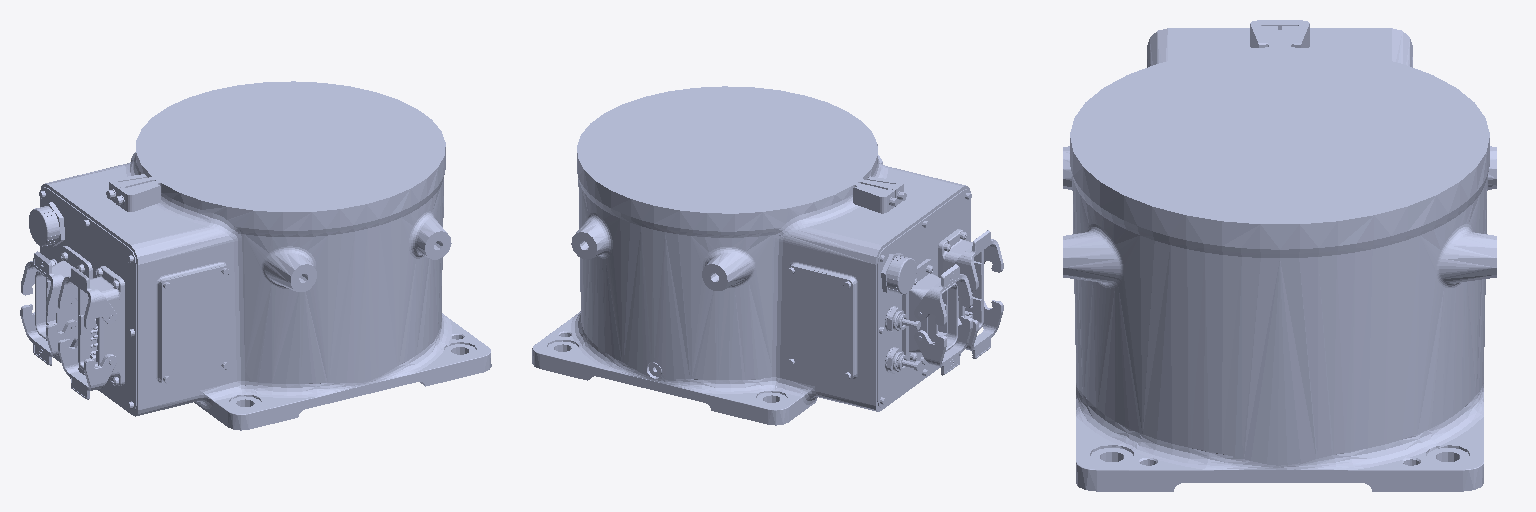
URDF robot description (ER15-1400):
<?xml version="1.0" encoding="utf-8"?>
<!-- This URDF was automatically created by SolidWorks to URDF Exporter! Originally created by [author] ([email redacted]) 
     Commit Version: 1.6.0-4-g7f85cfe  Build Version: 1.6.7995.38578
     For more information, please see http://wiki.ros.org/sw_urdf_exporter -->
<robot
  name="ER15-1400">
  <link
    name="base_link">
    <inertial>
      <origin
        xyz="-0.022737 0.1087 -0.0045081"
        rpy="0 0 0" />
      <mass
        value="17.552" />
      <inertia
        ixx="0.15174"
        ixy="-0.0035317"
        ixz="-0.00032694"
        iyy="0.26069"
        iyz="7.7831E-05"
        izz="0.22707" />
    </inertial>
    <visual>
      <origin
        xyz="0 0 0"
        rpy="0 0 0" />
      <geometry>
        <mesh
          filename="package://ER15-1400/meshes/base_link.STL" />
      </geometry>
      <material
        name="">
        <color
          rgba="0.79216 0.81961 0.93333 1" />
      </material>
    </visual>
    <collision>
      <origin
        xyz="0 0 0"
        rpy="0 0 0" />
      <geometry>
        <mesh
          filename="package://ER15-1400/meshes/base_link.STL" />
      </geometry>
    </collision>
  </link>
  <link
    name="link_1">
    <inertial>
      <origin
        xyz="0.087027 0.16667 0.0070087"
        rpy="0 0 0" />
      <mass
        value="25.756" />
      <inertia
        ixx="0.50657"
        ixy="-0.14782"
        ixz="0.063079"
        iyy="0.65337"
        iyz="0.05515"
        izz="0.50525" />
    </inertial>
    <visual>
      <origin
        xyz="0 0 0"
        rpy="0 0 0" />
      <geometry>
        <mesh
          filename="package://ER15-1400/meshes/link_1.STL" />
      </geometry>
      <material
        name="">
        <color
          rgba="0.79216 0.81961 0.93333 1" />
      </material>
    </visual>
    <collision>
      <origin
        xyz="0 0 0"
        rpy="0 0 0" />
      <geometry>
        <mesh
          filename="package://ER15-1400/meshes/link_1.STL" />
      </geometry>
    </collision>
  </link>
  <joint
    name="joint_1"
    type="continuous">
    <origin
      xyz="0.013059 0.0045 0.196"
      rpy="1.5708 0 0" />
    <parent
      link="base_link" />
    <child
      link="link_1" />
    <axis
      xyz="0 1 0" />
  </joint>
  <link
    name="link_2">
    <inertial>
      <origin
        xyz="0.0052157 0.24914 0.083905"
        rpy="0 0 0" />
      <mass
        value="9.936" />
      <inertia
        ixx="0.43323"
        ixy="0.0053716"
        ixz="-4.4126E-05"
        iyy="0.026505"
        iyz="-0.015746"
        izz="0.44703" />
    </inertial>
    <visual>
      <origin
        xyz="0 0 0"
        rpy="0 0 0" />
      <geometry>
        <mesh
          filename="package://ER15-1400/meshes/link_2.STL" />
      </geometry>
      <material
        name="">
        <color
          rgba="0.79216 0.81961 0.93333 1" />
      </material>
    </visual>
    <collision>
      <origin
        xyz="0 0 0"
        rpy="0 0 0" />
      <geometry>
        <mesh
          filename="package://ER15-1400/meshes/link_2.STL" />
      </geometry>
    </collision>
  </link>
  <joint
    name="joint_2"
    type="continuous">
    <origin
      xyz="0.18 0.234 0.0615"
      rpy="0 0 0" />
    <parent
      link="link_1" />
    <child
      link="link_2" />
    <axis
      xyz="0 0 1" />
  </joint>
  <link
    name="link_3">
    <inertial>
      <origin
        xyz="0.042899 0.082142 -0.030195"
        rpy="0 0 0" />
      <mass
        value="15.122" />
      <inertia
        ixx="0.26566"
        ixy="-0.045696"
        ixz="-0.002732"
        iyy="0.22992"
        iyz="-0.0036396"
        izz="0.17797" />
    </inertial>
    <visual>
      <origin
        xyz="0 0 0"
        rpy="0 0 0" />
      <geometry>
        <mesh
          filename="package://ER15-1400/meshes/link_3.STL" />
      </geometry>
      <material
        name="">
        <color
          rgba="0.79216 0.81961 0.93333 1" />
      </material>
    </visual>
    <collision>
      <origin
        xyz="0 0 0"
        rpy="0 0 0" />
      <geometry>
        <mesh
          filename="package://ER15-1400/meshes/link_3.STL" />
      </geometry>
    </collision>
  </link>
  <joint
    name="joint_3"
    type="continuous">
    <origin
      xyz="0 0.58 0"
      rpy="0 0 0" />
    <parent
      link="link_2" />
    <child
      link="link_3" />
    <axis
      xyz="0 0 1" />
  </joint>
  <link
    name="link_4">
    <inertial>
      <origin
        xyz="0.20271 0.0011368 7.6237E-05"
        rpy="0 0 0" />
      <mass
        value="8.0966" />
      <inertia
        ixx="0.031521"
        ixy="8.0776E-05"
        ixz="-5.353E-05"
        iyy="0.143"
        iyz="-9.1869E-07"
        izz="0.1313" />
    </inertial>
    <visual>
      <origin
        xyz="0 0 0"
        rpy="0 0 0" />
      <geometry>
        <mesh
          filename="package://ER15-1400/meshes/link_4.STL" />
      </geometry>
      <material
        name="">
        <color
          rgba="0.79216 0.81961 0.93333 1" />
      </material>
    </visual>
    <collision>
      <origin
        xyz="0 0 0"
        rpy="0 0 0" />
      <geometry>
        <mesh
          filename="package://ER15-1400/meshes/link_4.STL" />
      </geometry>
    </collision>
  </link>
  <joint
    name="joint_4"
    type="continuous">
    <origin
      xyz="0.20999 0.16 -0.0628"
      rpy="0 0 0" />
    <parent
      link="link_3" />
    <child
      link="link_4" />
    <axis
      xyz="1 0 0" />
  </joint>
  <link
    name="link_5">
    <inertial>
      <origin
        xyz="0.02152 5.3039E-05 7.1266E-05"
        rpy="0 0 0" />
      <mass
        value="1.7011" />
      <inertia
        ixx="0.0030157"
        ixy="2.1898E-06"
        ixz="2.3695E-06"
        iyy="0.0048424"
        iyz="-5.0731E-06"
        izz="0.0051235" />
    </inertial>
    <visual>
      <origin
        xyz="0 0 0"
        rpy="0 0 0" />
      <geometry>
        <mesh
          filename="package://ER15-1400/meshes/link_5.STL" />
      </geometry>
      <material
        name="">
        <color
          rgba="0.79216 0.81961 0.93333 1" />
      </material>
    </visual>
    <collision>
      <origin
        xyz="0 0 0"
        rpy="0 0 0" />
      <geometry>
        <mesh
          filename="package://ER15-1400/meshes/link_5.STL" />
      </geometry>
    </collision>
  </link>
  <joint
    name="joint_5"
    type="continuous">
    <origin
      xyz="0.42951 0 0"
      rpy="0 0 0" />
    <parent
      link="link_4" />
    <child
      link="link_5" />
    <axis
      xyz="0 0 1" />
  </joint>
  <link
    name="link_6">
    <inertial>
      <origin
        xyz="0.0072982 -0.00012955 1.29E-05"
        rpy="0 0 0" />
      <mass
        value="0.059879" />
      <inertia
        ixx="3.8912E-05"
        ixy="4.4278E-08"
        ixz="-5.8775E-09"
        iyy="2.0733E-05"
        iyz="-2.3336E-08"
        izz="2.0538E-05" />
    </inertial>
    <visual>
      <origin
        xyz="0 0 0"
        rpy="0 0 0" />
      <geometry>
        <mesh
          filename="package://ER15-1400/meshes/link_6.STL" />
      </geometry>
      <material
        name="">
        <color
          rgba="0.79216 0.81961 0.93333 1" />
      </material>
    </visual>
    <collision>
      <origin
        xyz="0 0 0"
        rpy="0 0 0" />
      <geometry>
        <mesh
          filename="package://ER15-1400/meshes/link_6.STL" />
      </geometry>
    </collision>
  </link>
  <joint
    name="joint_6"
    type="continuous">
    <origin
      xyz="0.1 0 0"
      rpy="-0.0013162 0 0" />
    <parent
      link="link_5" />
    <child
      link="link_6" />
    <axis
      xyz="1 0 0" />
  </joint>
</robot>

--- Render facts (derived) ---
The picture shows the robot from 3 angles, left to right: view 1: azimuth 30°, elevation 25°; view 2: azimuth 150°, elevation 25°; view 3: azimuth 270°, elevation 25°; orthographic projection.
Robot: ER15-1400 — 7 links, 6 joints (6 continuous); root link base_link; default pose: every joint at zero.
Links seen in each view (by area): view 1: base_link; view 2: base_link; view 3: base_link.
Boxes of the visible links, left/top/right/bottom form: base_link: left=20, top=81, right=491, bottom=430; base_link: left=532, top=86, right=1003, bottom=425; base_link: left=1063, top=20, right=1496, bottom=491.
Size in the robot's own frame: 0.4264 by 0.31 by 0.213 metres.
1 mesh visuals loaded from 7 distinct referenced files (1 binary STL); not drawn: 6 (reference not matched to a file when rendering).